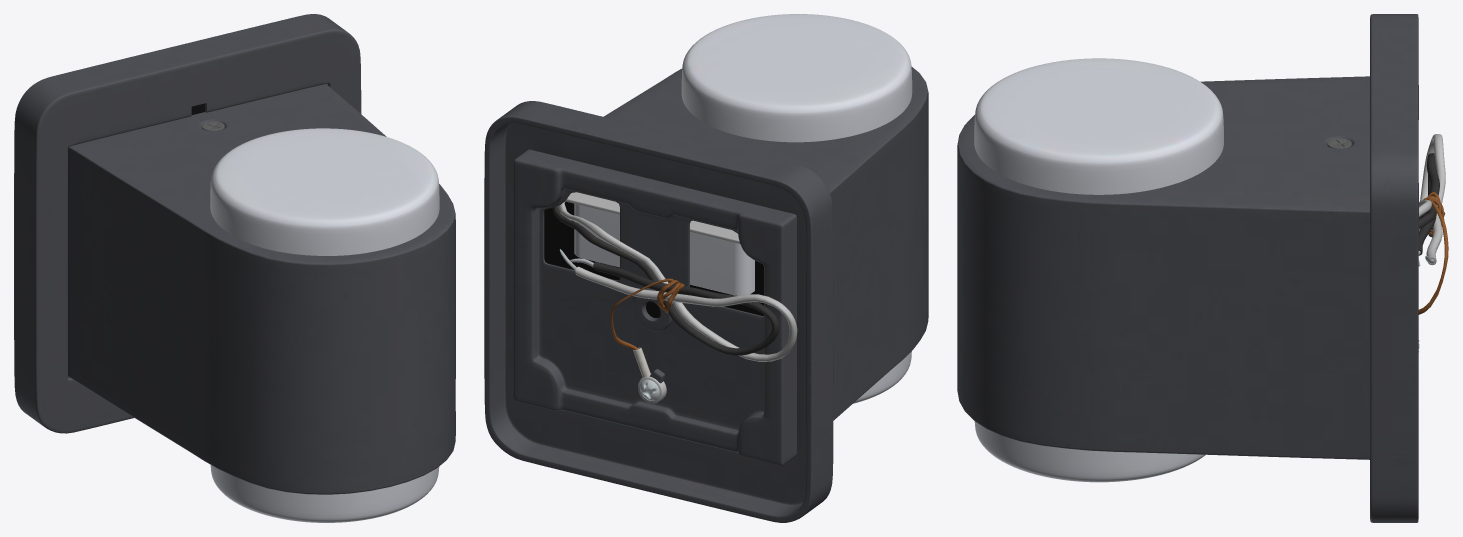
The model's file is abo-B089L9L87H.glb.
3 renders of one model, left to right at view 1: azimuth 30°, elevation 25°; view 2: azimuth 150°, elevation 25°; view 3: azimuth 270°, elevation 25°, orthographic. The views are drawn at different scales.
Size of the model in its own units: 0.109 by 0.109 by 0.132.
Materials: 1 (1 with a texture image).
